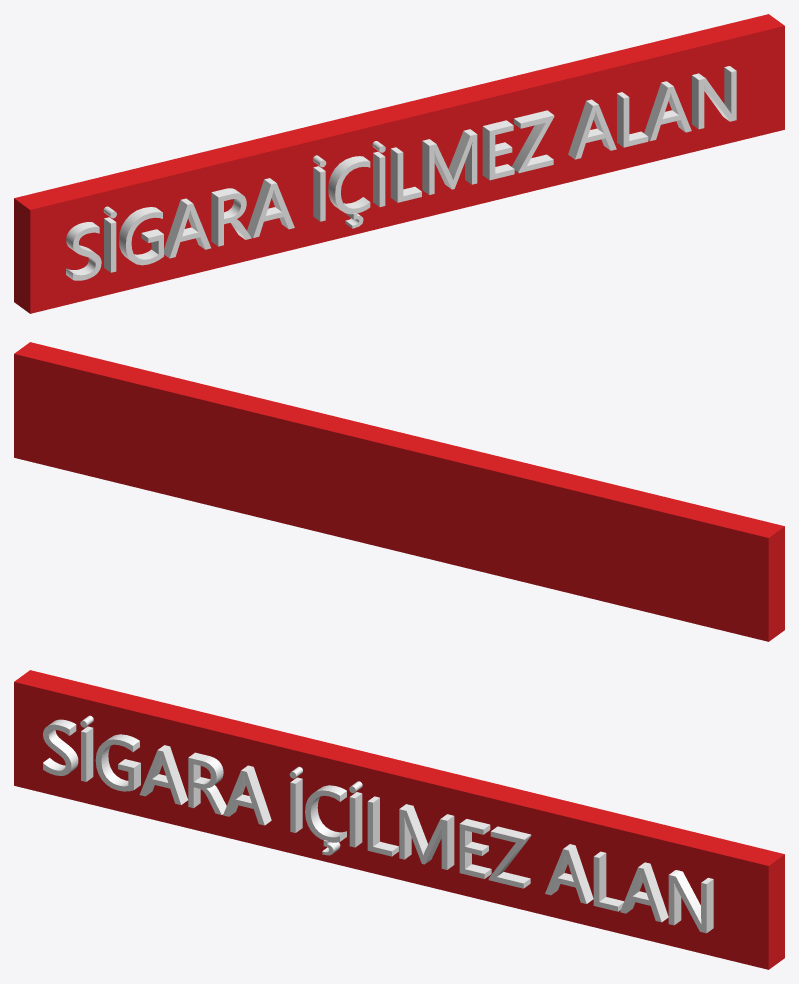
File: nosmoke.fbx
3 renders of one model, top to bottom at view 1: azimuth 30°, elevation 25°; view 2: azimuth 150°, elevation 25°; view 3: azimuth 330°, elevation 25°, orthographic.
Parts seen in each view (by area): view 1: root, node_id51; view 2: root; view 3: root, node_id51.
Part boxes in pixels (x1=…): root: x1=14, y1=14, x2=784, y2=313; node_id51: x1=66, y1=66, x2=736, y2=280; root: x1=14, y1=342, x2=784, y2=641; root: x1=14, y1=670, x2=784, y2=969; node_id51: x1=43, y1=715, x2=713, y2=933.
Bounding box in the file's own units: 0.3734 × 0.0491 × 0.0198.
Materials: 2 (2 with a texture image).
